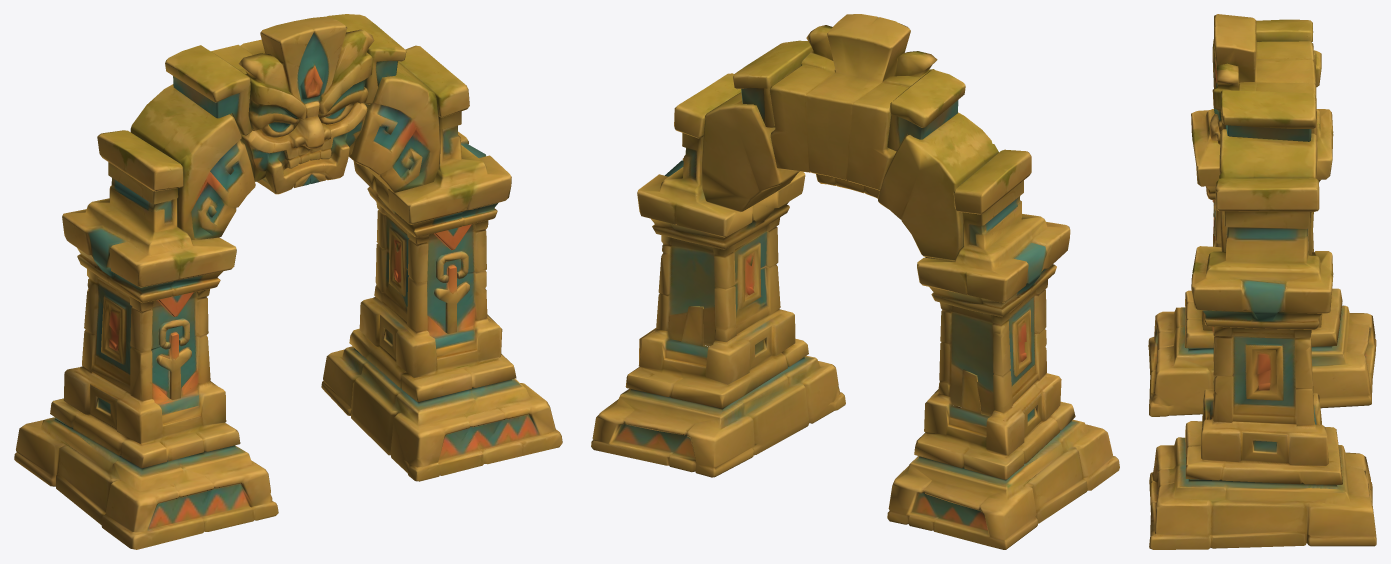
The model's file is tiki-gateway.glb.
3 views of the same model, side by side, from view 1: azimuth 30°, elevation 25°; view 2: azimuth 150°, elevation 25°; view 3: azimuth 270°, elevation 25° (orthographic). The views are drawn at different scales.
Visible parts, largest first — view 1: tripo_node_2af6c524-f693-4782-88ac-a484757b6998; view 2: tripo_node_2af6c524-f693-4782-88ac-a484757b6998; view 3: tripo_node_2af6c524-f693-4782-88ac-a484757b6998.
Boxes of the visible parts, x1,y1,x2,y2 form: tripo_node_2af6c524-f693-4782-88ac-a484757b6998: [14, 14, 562, 549]; tripo_node_2af6c524-f693-4782-88ac-a484757b6998: [591, 14, 1119, 549]; tripo_node_2af6c524-f693-4782-88ac-a484757b6998: [1148, 14, 1376, 549].
Size of the model in its own units: 0.9995 by 0.9829 by 0.478.
1 material, 1 textured.
